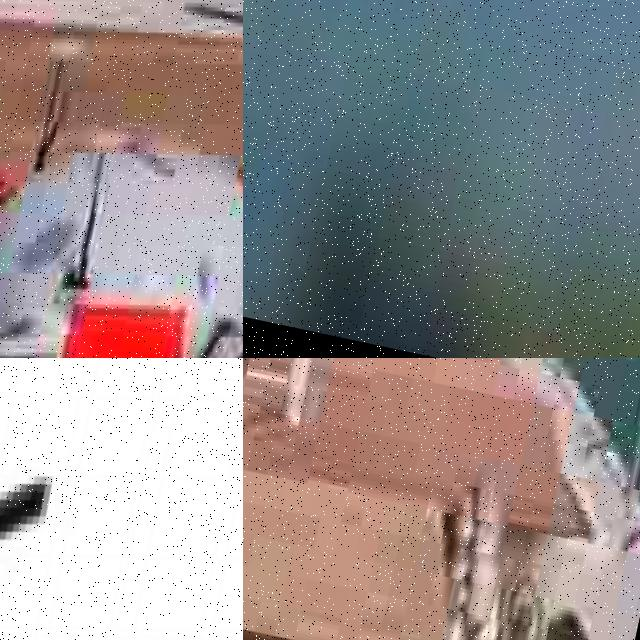0: (0, 0, 243, 358)
drone: (0, 358, 243, 640)
